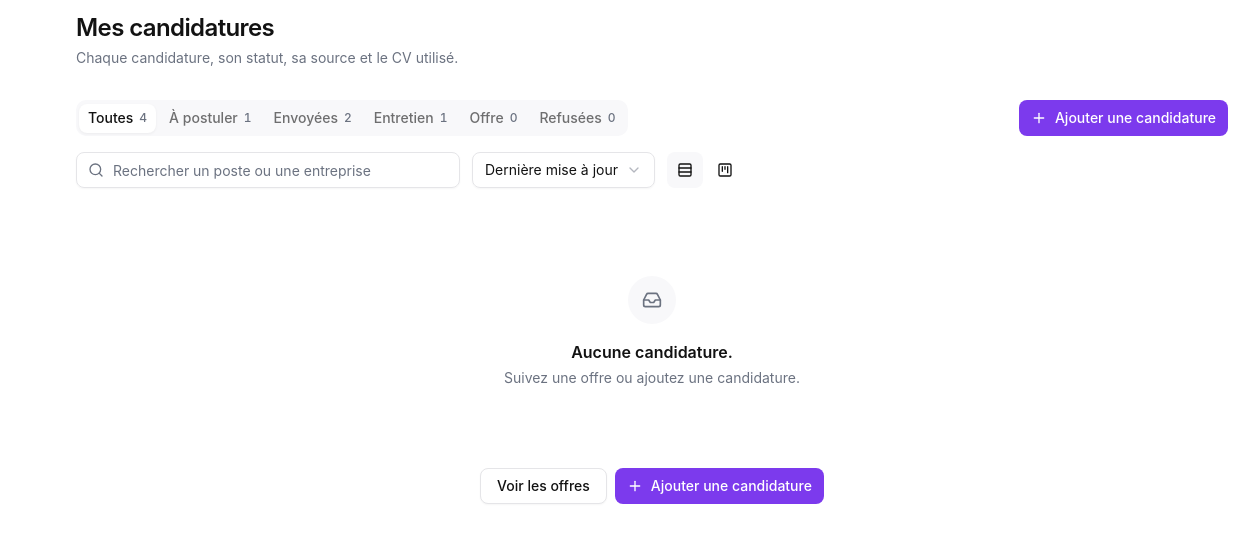
Scenario: ApplicationsPage › porte la recherche dans l_URL apres la temporisation
Type "analyst" into the search field labelled "Rechercher un poste ou une entreprise". click: (268, 170)
box: [76,152,460,188]
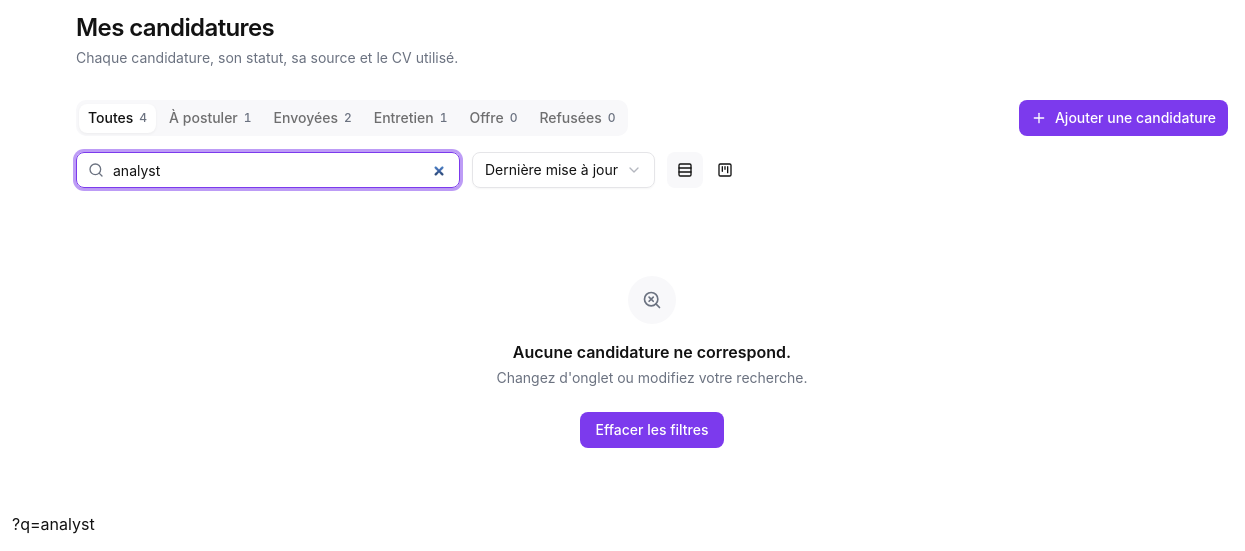
Expected: the text with test id "search" reads "?q=analyst", [12,514,95,534]
